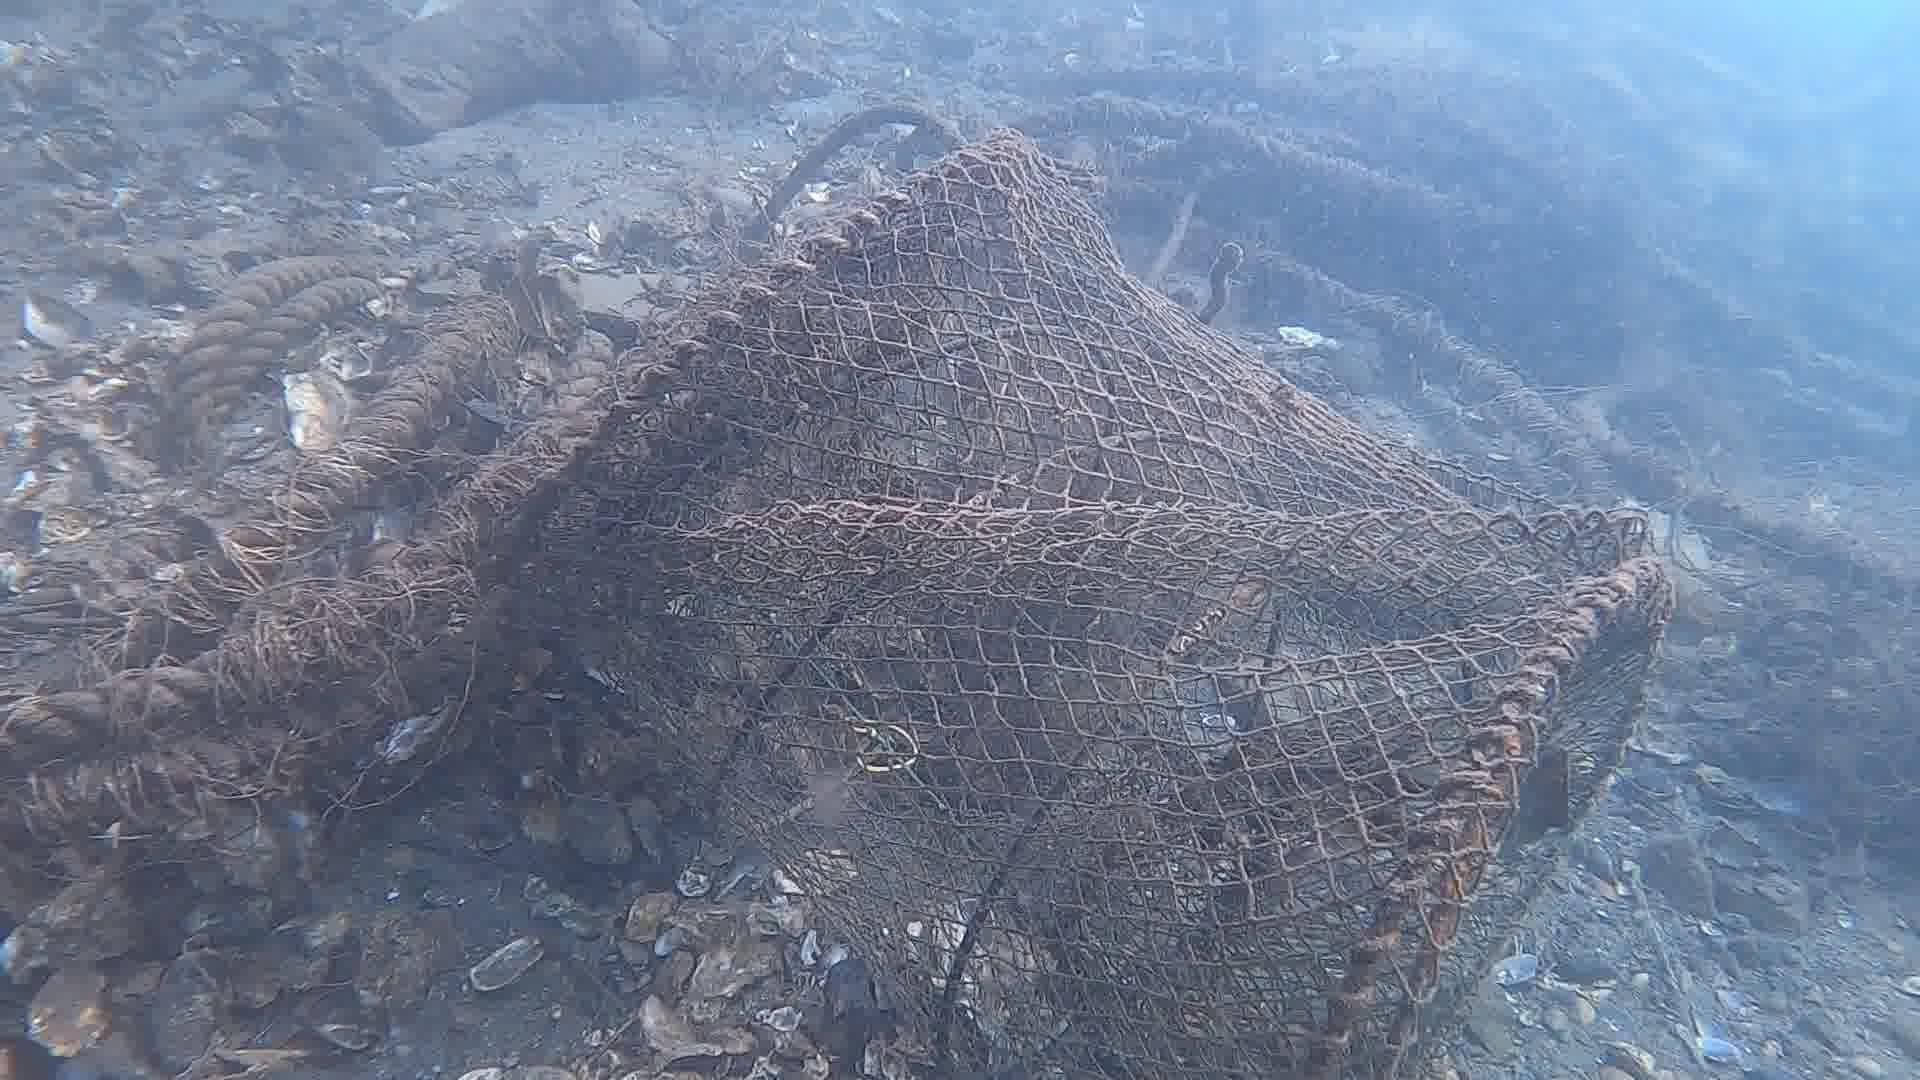bundle of ropes: (171, 255, 375, 440), (363, 324, 611, 447)
rope: (0, 647, 220, 764)
spring fish trap: (492, 129, 1675, 1080)
